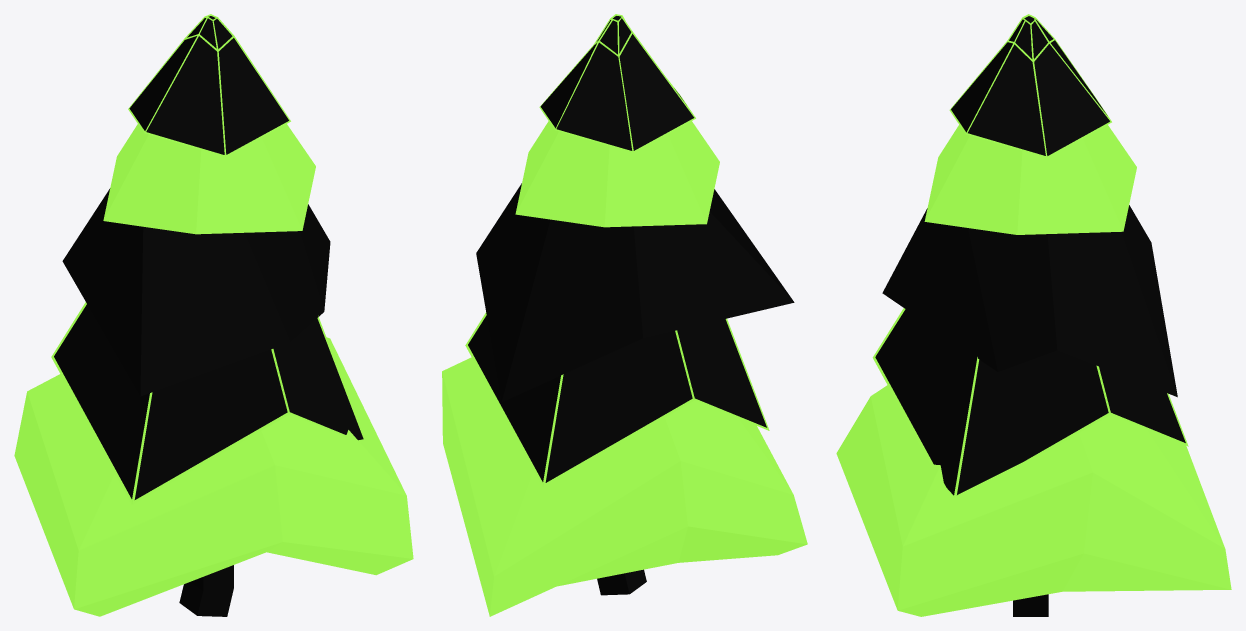
Rendered from Nature_tree_4.glb.
The picture shows the model from 3 angles, left to right: view 1: azimuth 30°, elevation 25°; view 2: azimuth 150°, elevation 25°; view 3: azimuth 270°, elevation 25°; orthographic projection. The views are drawn at different scales.
Visible parts, largest first — view 1: PineTree; view 2: PineTree; view 3: PineTree.
Part boxes in pixels (left/top/right/bottom): PineTree: left=14, top=14, right=413, bottom=616; PineTree: left=442, top=14, right=807, bottom=616; PineTree: left=836, top=14, right=1231, bottom=616.
Size of the model in its own units: 2.19 by 3.89 by 2.34.
